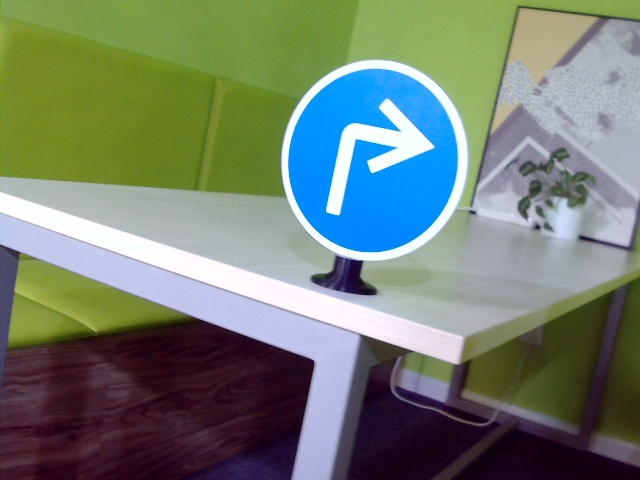turn_right: (316, 101, 433, 213)
